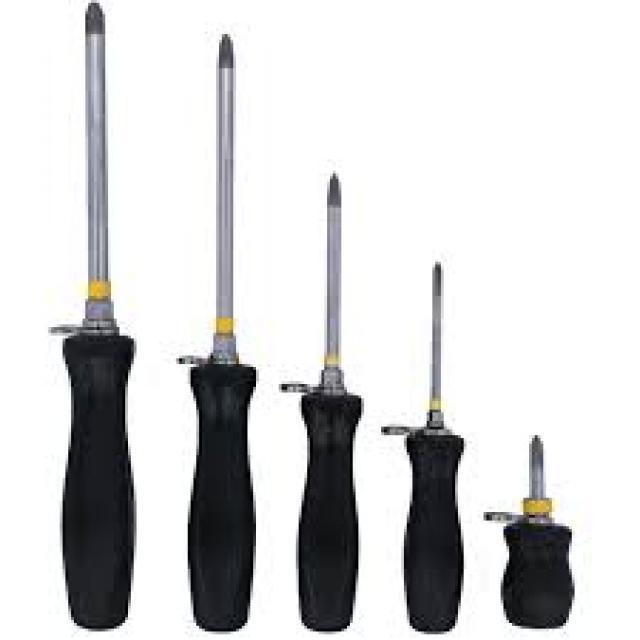screwdriver: (55, 0, 137, 631), (189, 21, 258, 636), (294, 173, 368, 638), (397, 260, 468, 633), (494, 432, 580, 634)
